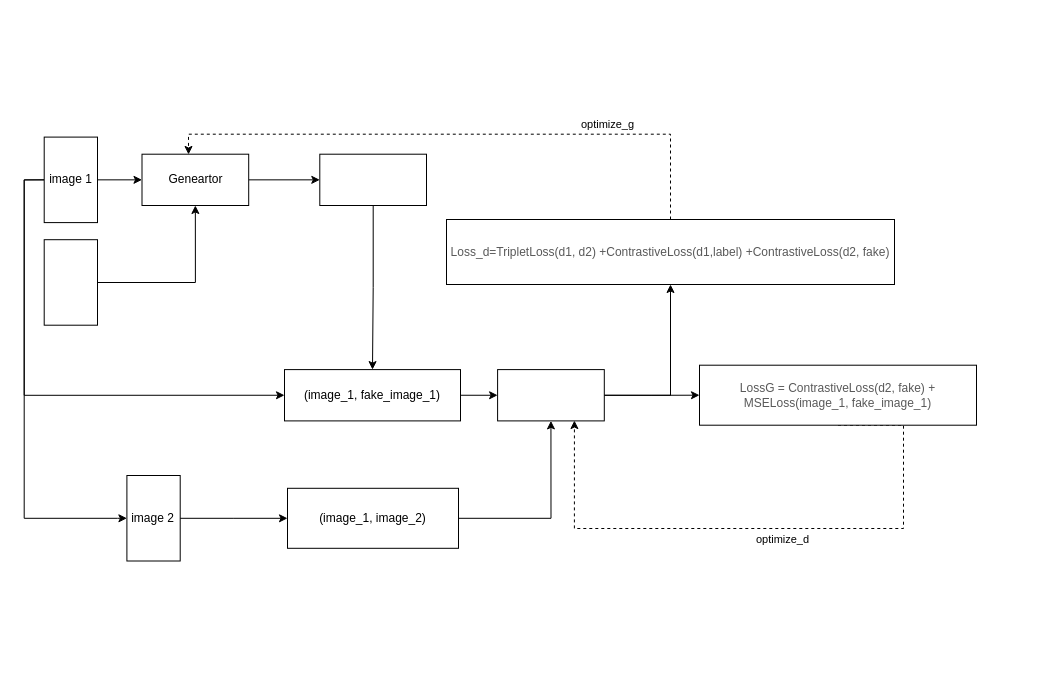
Some shapes in this 1053 by 692 pixel diagram are drawn without their labels. Each missing label, with the centre of its shape:
discriminator: (x=550, y=395)
fake_image_1: (x=372, y=179)
noise: (x=70, y=282)
